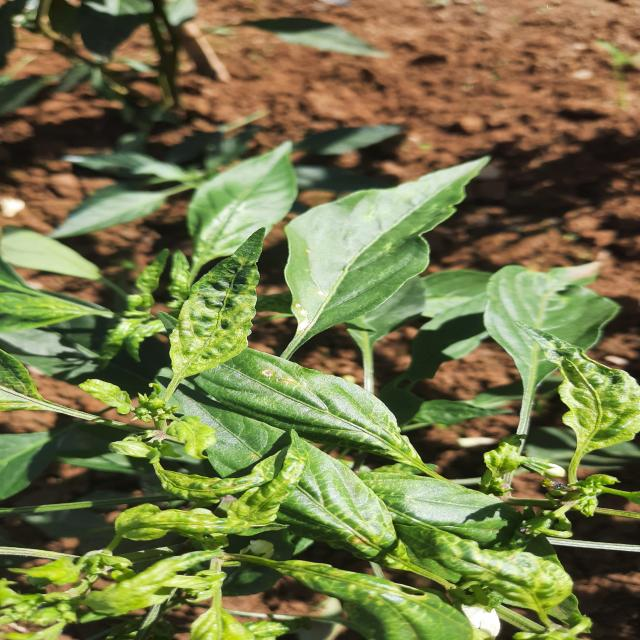thrips: (148, 230, 307, 394), (401, 532, 577, 622), (532, 333, 640, 462)
